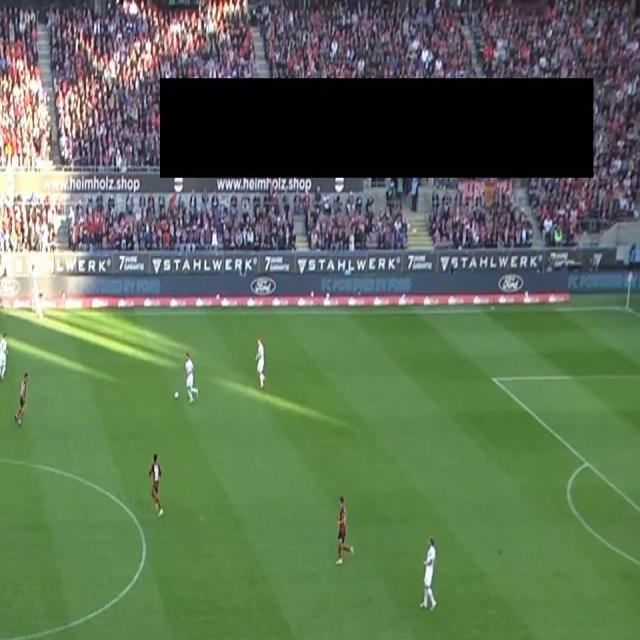ball: (174, 390, 180, 400)
